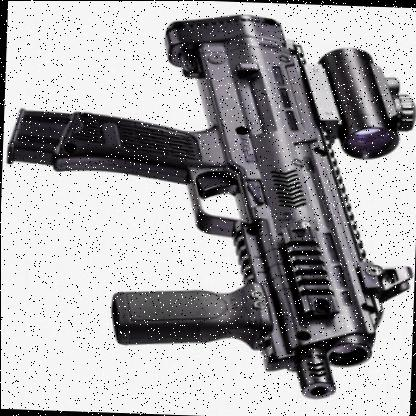rifle: (16, 2, 410, 397)
